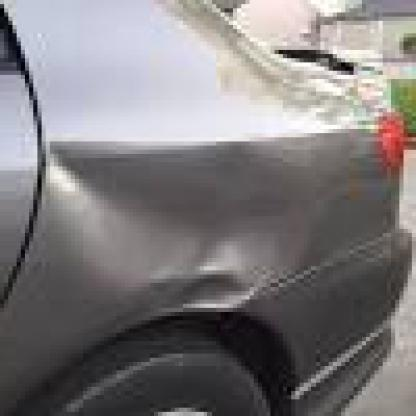dent: (131, 246, 277, 308), (39, 139, 106, 202)
